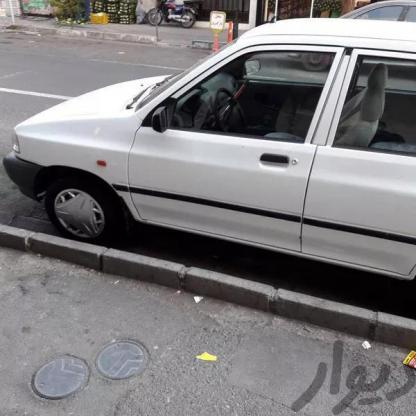Car: (4, 0, 416, 302), (262, 0, 416, 75)
